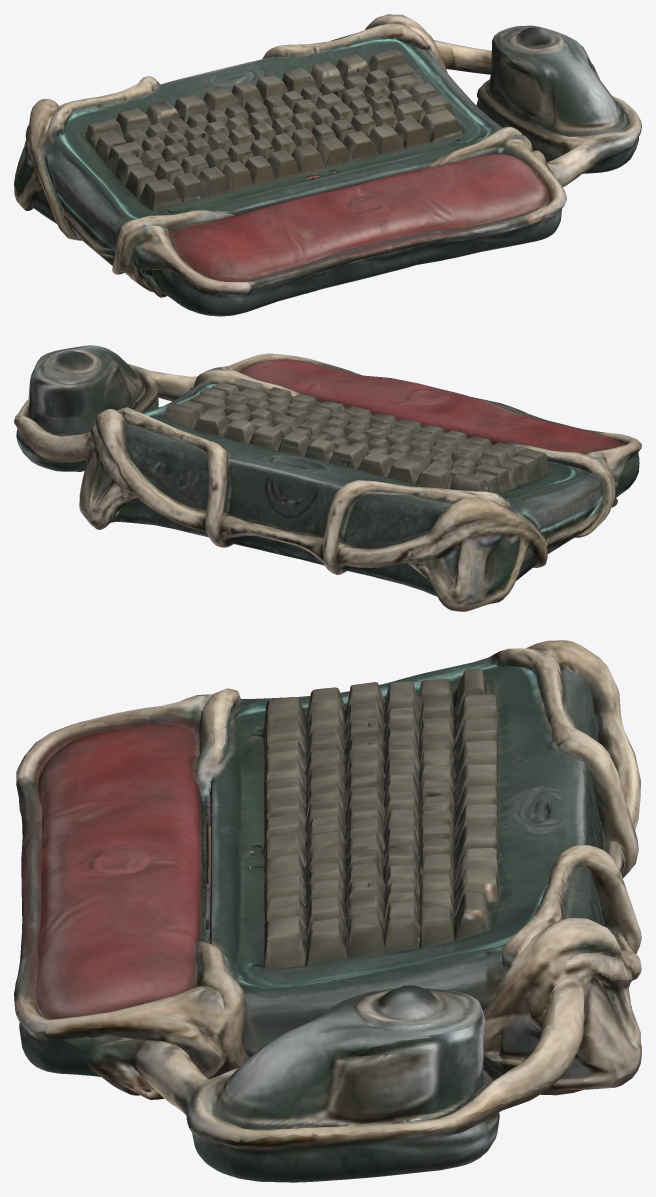
The model's file is keyboard-optimized.glb.
The picture shows the model from 3 angles, top to bottom: view 1: azimuth 30°, elevation 25°; view 2: azimuth 150°, elevation 25°; view 3: azimuth 270°, elevation 25°; orthographic projection. The views are drawn at different scales.
Parts seen in each view (by area): view 1: geometry_0; view 2: geometry_0; view 3: geometry_0.
Part boxes in pixels (<box>): geometry_0: <box>14,14,641,316</box>; geometry_0: <box>14,345,641,611</box>; geometry_0: <box>14,640,641,1182</box>.
Bounding box in the file's own units: 0.5196 × 0.095 × 0.3287.
1 material, 1 textured.
